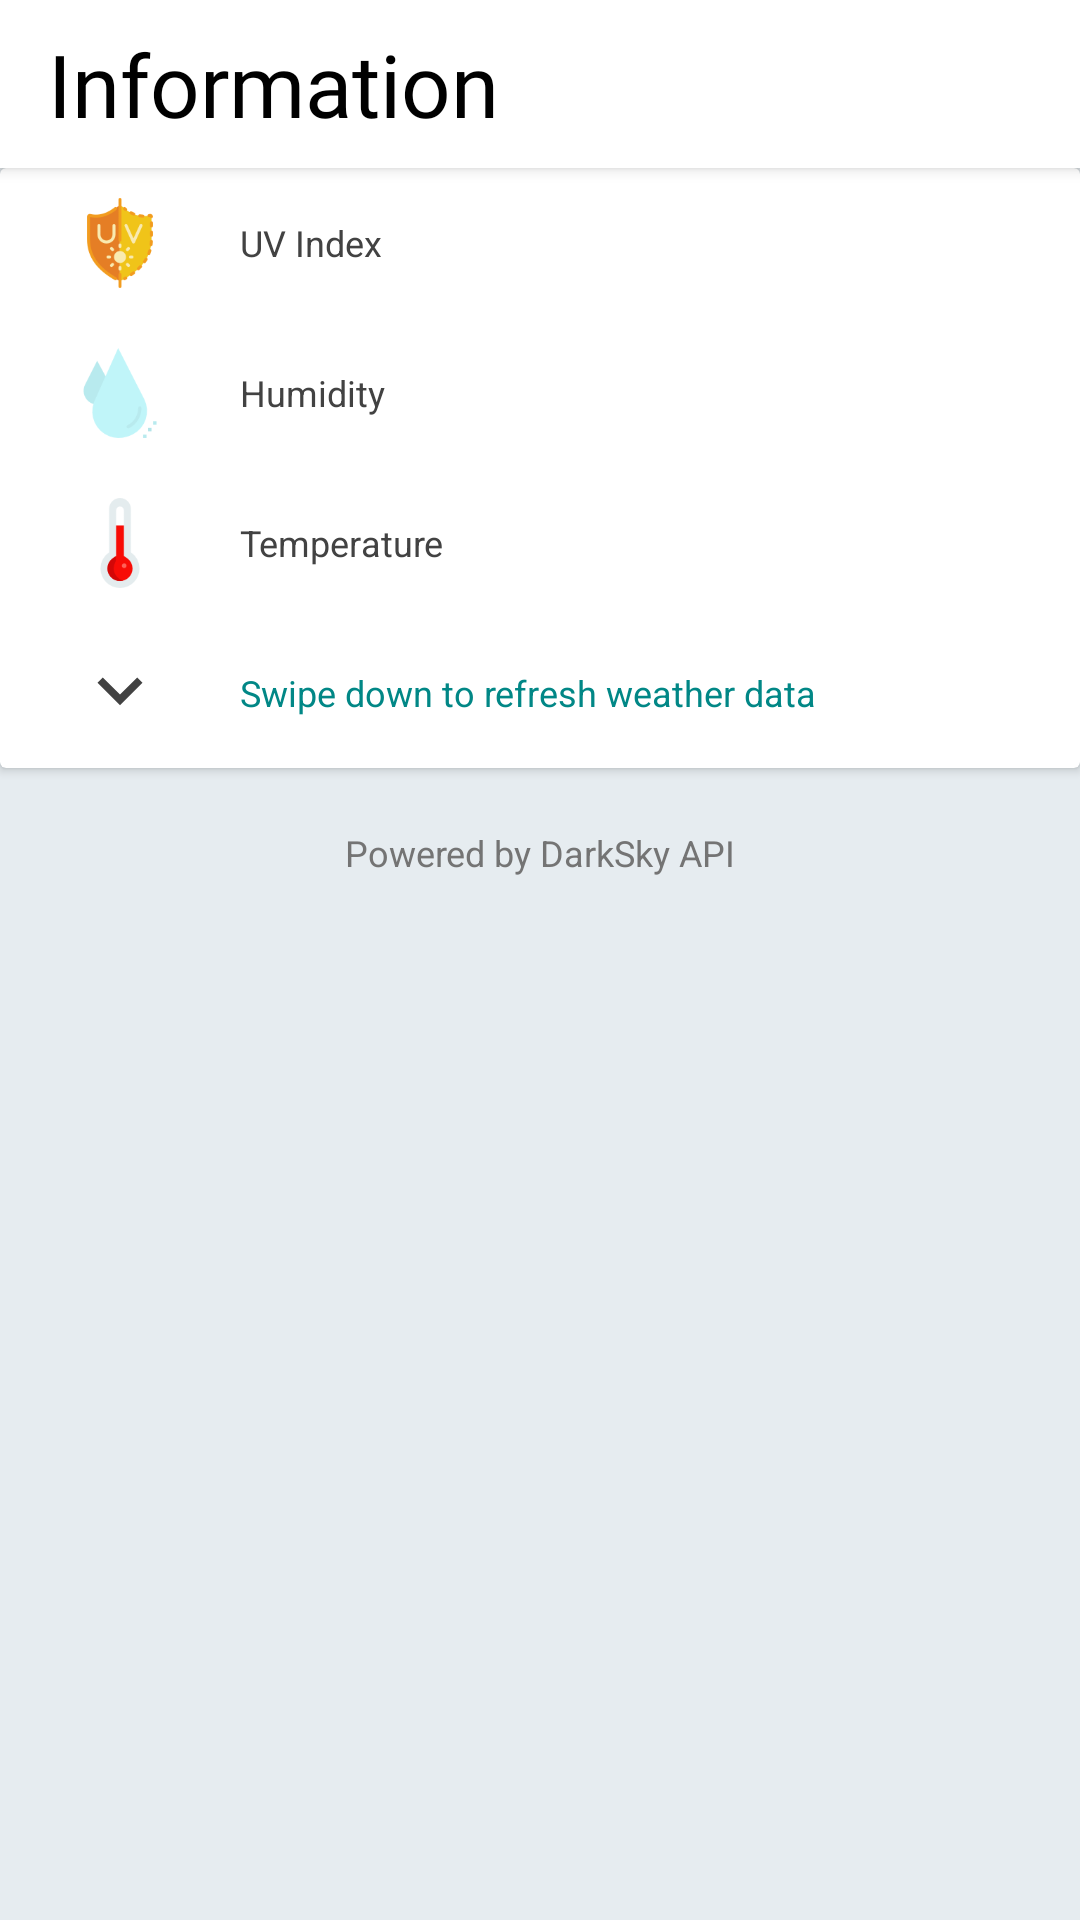

Named icons in this screenshot (1080px×1920px) and their centers, [x,y]:
arrow down: [120,691]
thermometer: [120,543]
